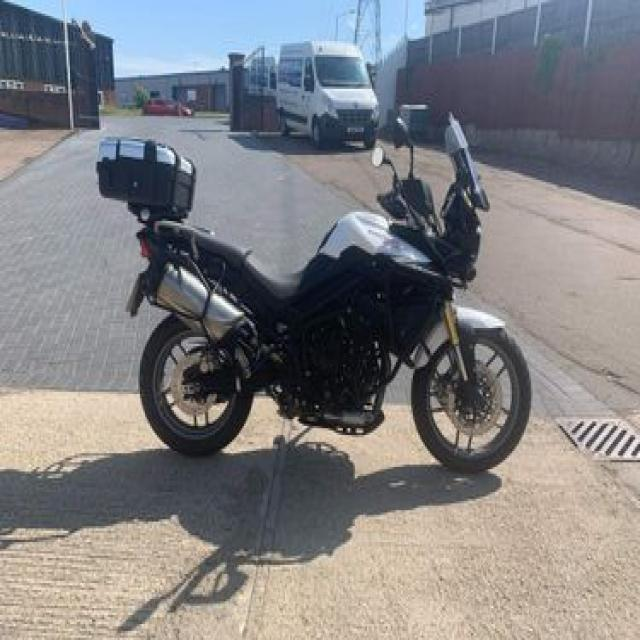Car: (282, 46, 379, 147)
Motorcycle: (96, 116, 532, 473)
